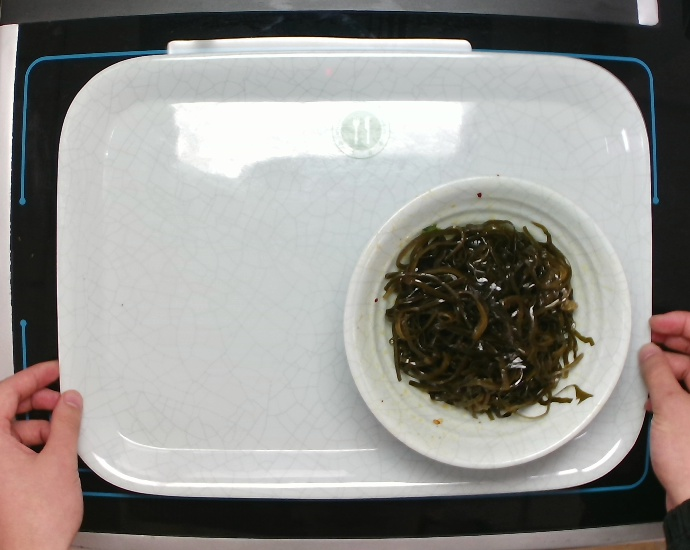JYsf-Xiao_Tang_Wan: (340, 173, 634, 471)
